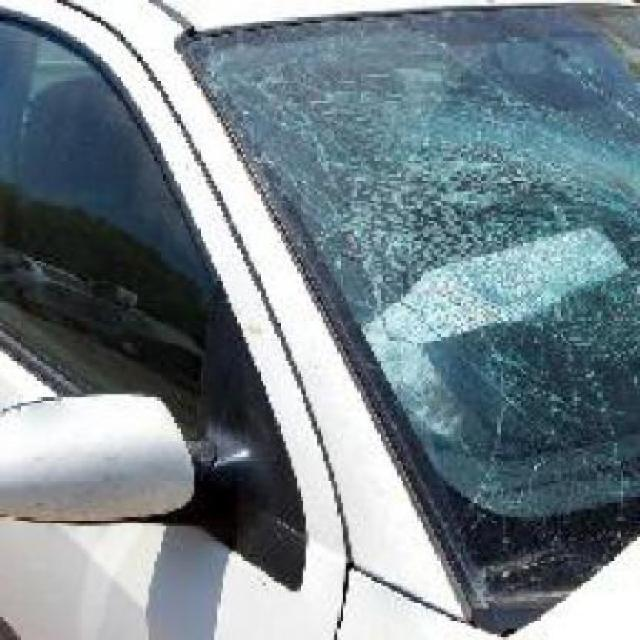damaged-windscreen: (174, 0, 637, 589)
